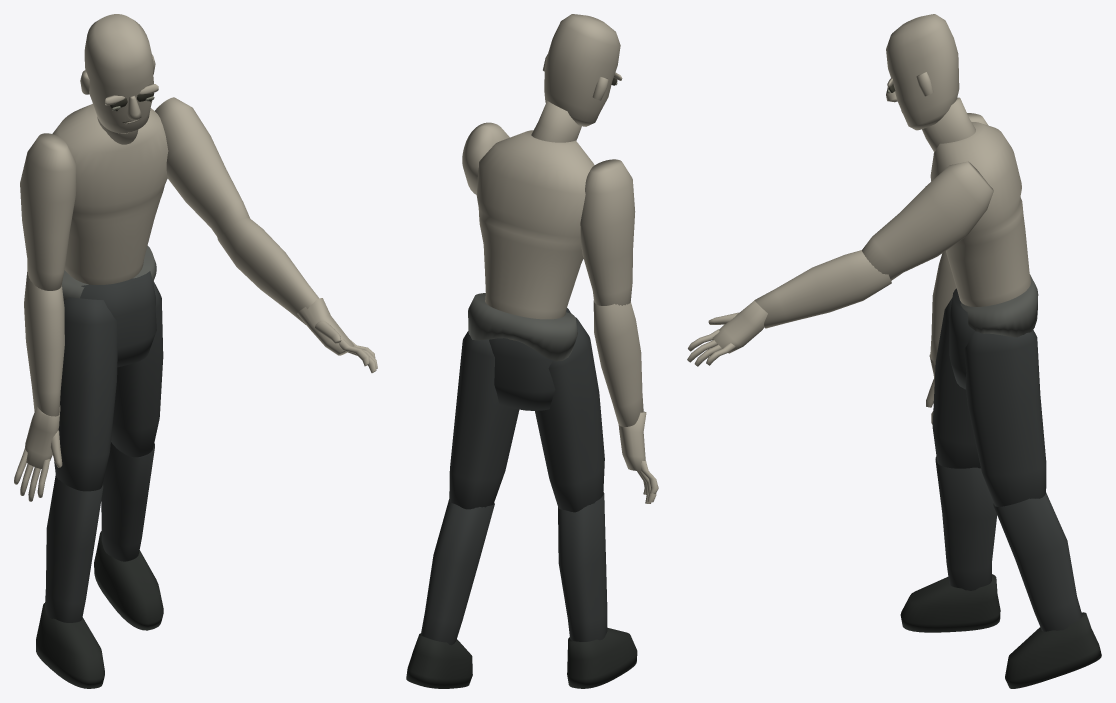
Rendered from enemy-hollow.glb.
3 views of the same model, side by side, from view 1: azimuth 30°, elevation 25°; view 2: azimuth 150°, elevation 25°; view 3: azimuth 270°, elevation 25° (orthographic). The views are drawn at different scales.
Parts seen in each view (by area): view 1: Chest, Trouser thigh_L, Upper arm_L, Upper arm_R, Trouser shin_L, Anatomical head, Trouser thigh_R, Trouser shin_R, Forearm anatomy_R, Forearm anatomy_L, Waist, Shoe_R (+4 smaller); view 2: Chest, Trouser thigh_L, Trouser thigh_R, Upper arm_L, Anatomical head, Trouser shin_L, Trouser shin_R, Forearm anatomy_L, Torn waist fabric, Waist, Shoe_L, Shoe_R (+3 smaller); view 3: Trouser thigh_R, Chest, Upper arm_R, Trouser shin_R, Anatomical head, Trouser shin_L, Forearm anatomy_R, Shoe_L, Shoe_R, Trouser thigh_L, Torn waist fabric, Waist (+3 smaller).
Part boxes in pixels (x1,y1,x2,y2): Chest: (52, 104, 168, 284); Trouser thigh_L: (54, 297, 117, 491); Upper arm_L: (20, 133, 76, 290); Upper arm_R: (155, 97, 249, 236); Trouser shin_L: (45, 475, 103, 622); Anatomical head: (84, 14, 153, 133); Trouser thigh_R: (111, 281, 163, 457); Trouser shin_R: (101, 442, 154, 561); Forearm anatomy_R: (217, 218, 319, 324); Forearm anatomy_L: (24, 271, 64, 416); Waist: (80, 271, 156, 367); Shoe_R: (94, 531, 163, 630); Chest: (476, 130, 594, 340); Trouser thigh_L: (535, 317, 604, 512); Trouser thigh_R: (449, 331, 519, 509); Upper arm_L: (580, 159, 635, 305); Anatomical head: (544, 14, 620, 126); Trouser shin_L: (558, 492, 607, 641); Trouser shin_R: (421, 499, 494, 645); Forearm anatomy_L: (593, 300, 643, 426); Torn waist fabric: (468, 293, 577, 361); Waist: (489, 308, 570, 410); Shoe_L: (567, 627, 637, 688); Shoe_R: (406, 633, 472, 688); Trouser thigh_R: (964, 330, 1046, 506); Chest: (930, 122, 1031, 306); Upper arm_R: (862, 161, 993, 280); Trouser shin_R: (993, 492, 1082, 631); Anatomical head: (886, 14, 959, 130); Trouser shin_L: (935, 456, 997, 590); Forearm anatomy_R: (754, 250, 891, 328); Shoe_L: (900, 574, 1000, 632); Shoe_R: (1005, 612, 1101, 688); Trouser thigh_L: (932, 297, 980, 468); Torn waist fabric: (960, 274, 1038, 337); Waist: (949, 288, 975, 389).
Bounding box in the file's own units: 0.6456 × 1.74 × 1.04.
